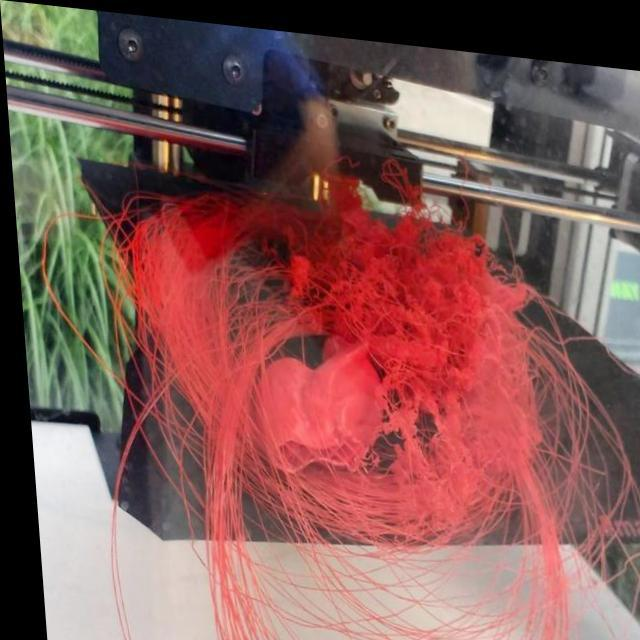spaghetti: (97, 141, 640, 627)
